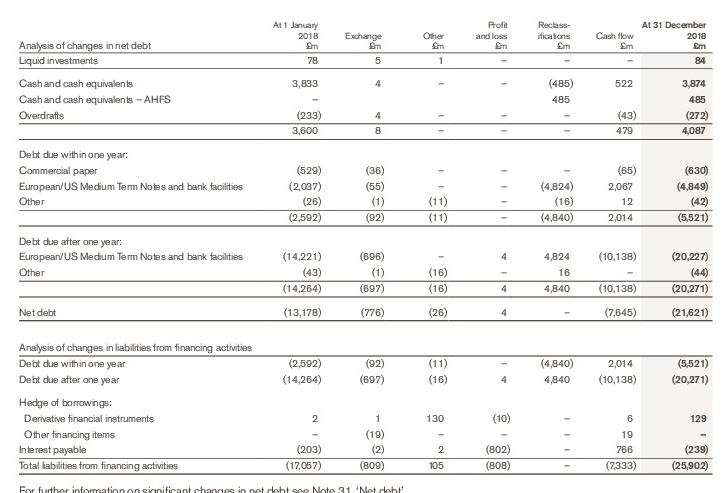table: (0, 0, 727, 493)
